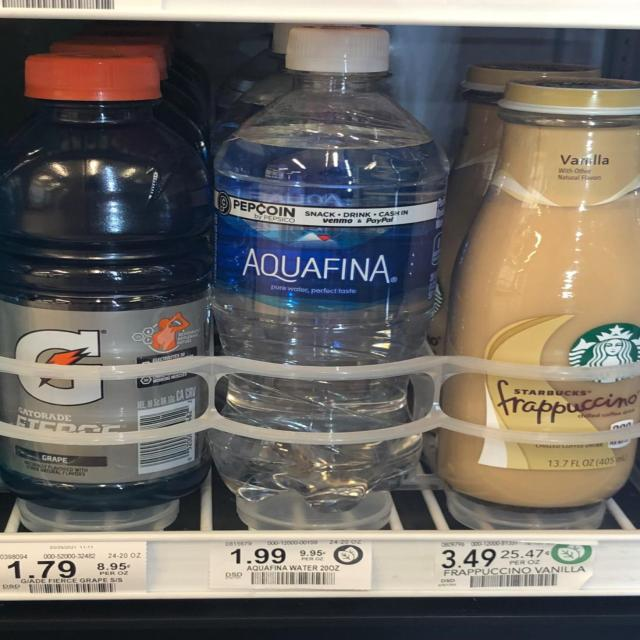plastic: (0, 29, 449, 369), (0, 429, 421, 510), (0, 374, 211, 435), (215, 373, 410, 434)
